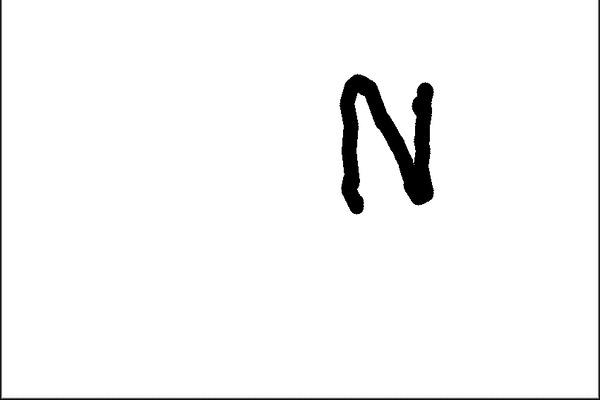N: (332, 69, 440, 218)
